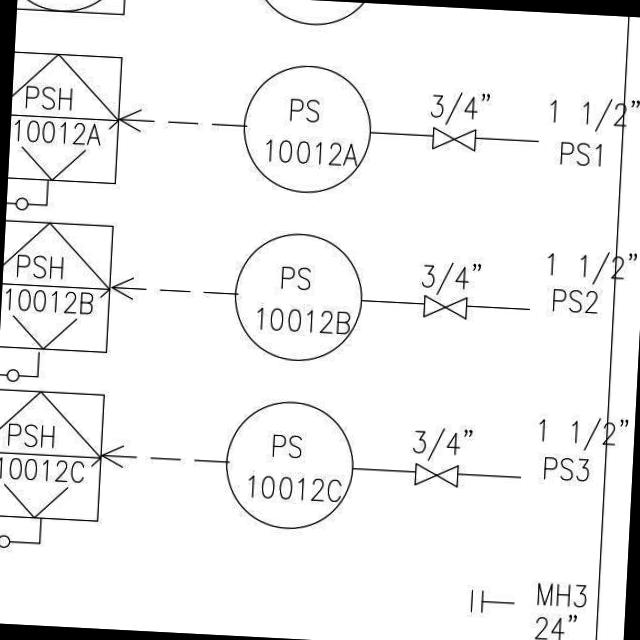GV: (426, 118, 482, 154), (416, 290, 472, 320), (410, 458, 463, 489)
